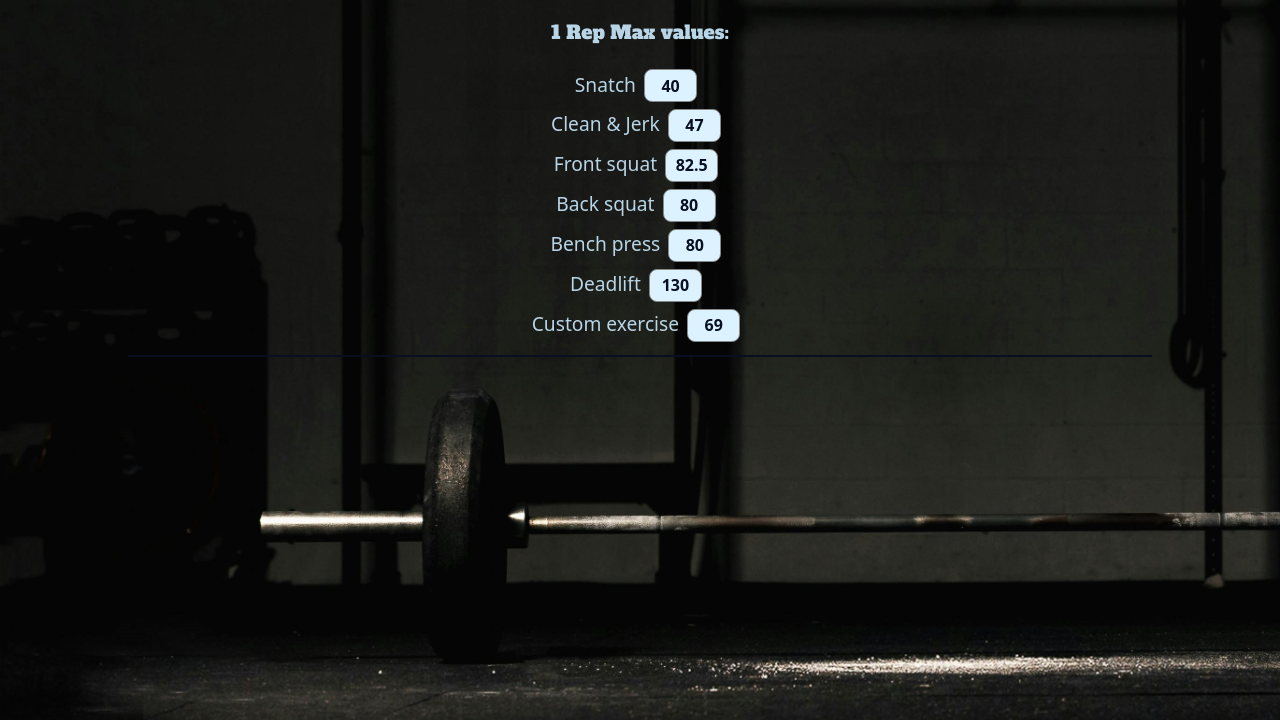
Scenario: ExerciseSettings › prevents more than one decimal place
The image size is (1280, 720).
Step 1. Replace the text in the field labelled "Snatch" with "40.55" → x=671, y=86, box 644,69 -> 697,102
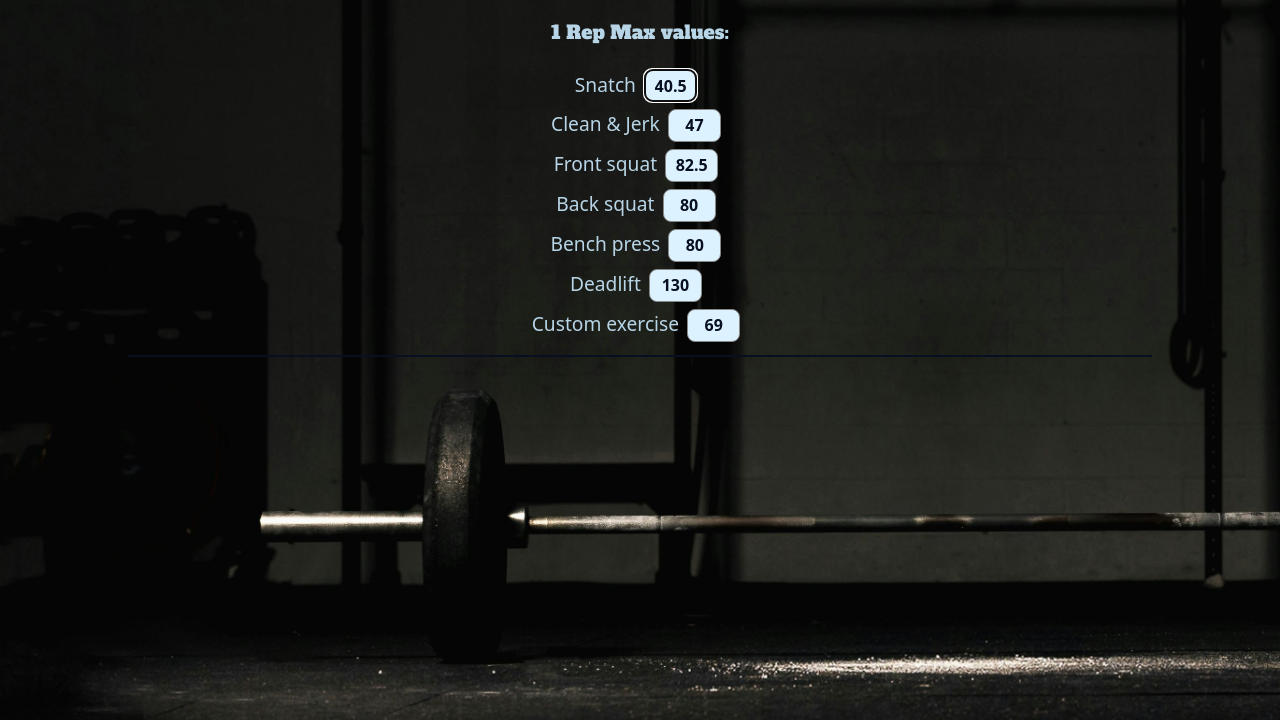
Check: the field labelled "Snatch" holds "40.5", box 644,69 -> 697,102
